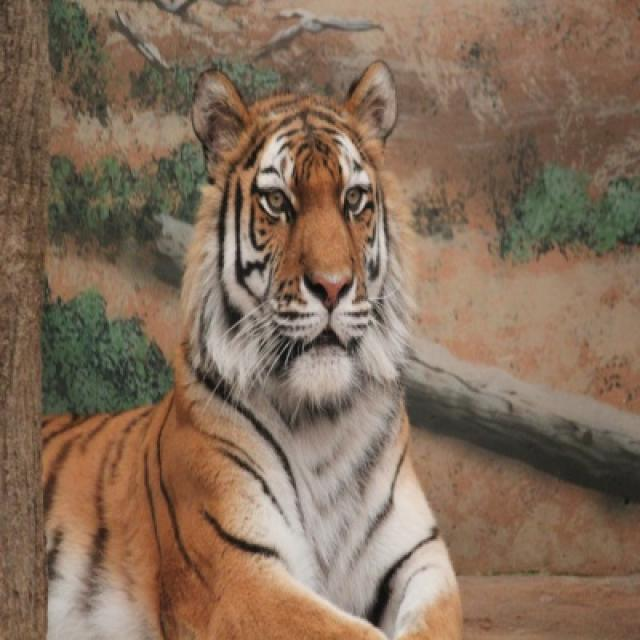Tiger: (40, 58, 465, 638)
